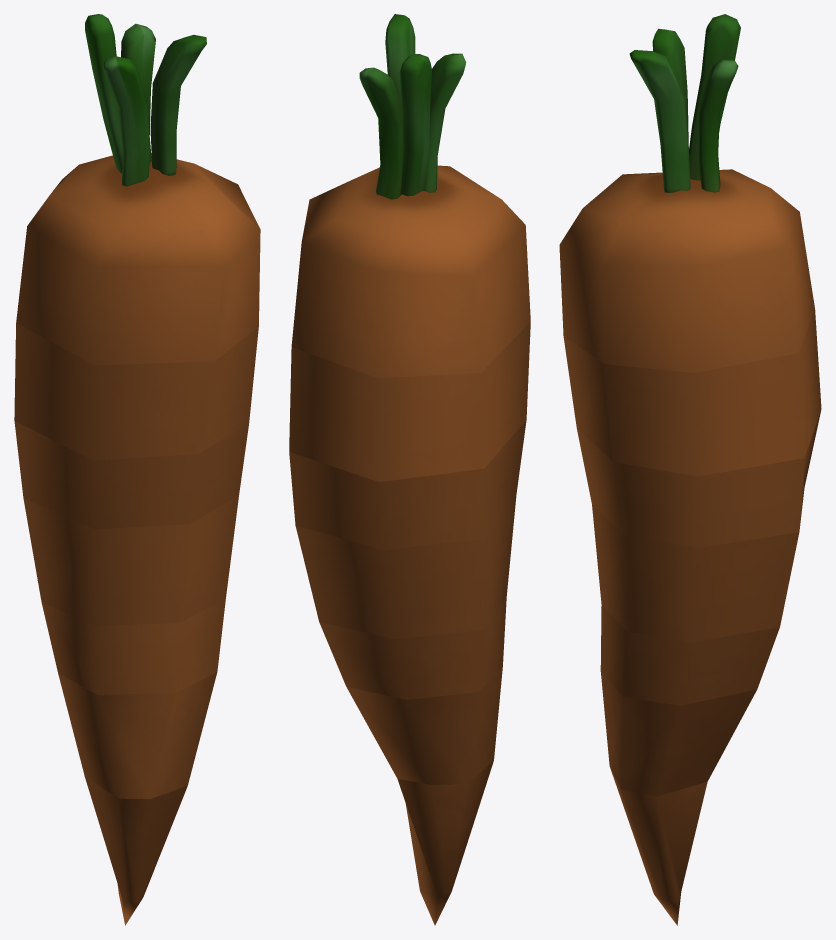
The model's file is CarrotCutSmoothed.fbx.
3 renders of one model, left to right at view 1: azimuth 30°, elevation 25°; view 2: azimuth 150°, elevation 25°; view 3: azimuth 270°, elevation 25°, orthographic. The views are drawn at different scales.
Visible parts, largest first — view 1: CarrotCut.001, CarrotCut.002, CarrotCut.004, CarrotCut.003, CarrotCut.006, CarrotCut.005, CarrotCutBottom; view 2: CarrotCut.001, CarrotCut.002, CarrotCut.004, CarrotCut.003, CarrotCut.006, CarrotCut.005, CarrotCutBottom; view 3: CarrotCut.001, CarrotCut.002, CarrotCut.004, CarrotCut.003, CarrotCut.006, CarrotCut.005, CarrotCutBottom.
Boxes of the visible parts, box(x1,y1,x2,y2) form: CarrotCut.001: box(16, 14, 260, 365); CarrotCut.002: box(14, 323, 258, 460); CarrotCut.004: box(23, 495, 238, 626); CarrotCut.003: box(14, 421, 248, 529); CarrotCut.006: box(58, 672, 217, 799); CarrotCut.005: box(41, 598, 225, 694); CarrotCutBottom: box(85, 777, 187, 925); CarrotCut.001: box(291, 14, 530, 378); CarrotCut.002: box(289, 322, 530, 481); CarrotCut.004: box(295, 495, 516, 639); CarrotCut.003: box(289, 420, 526, 550); CarrotCut.006: box(346, 667, 502, 784); CarrotCut.005: box(319, 597, 506, 699); CarrotCutBottom: box(397, 761, 493, 925); CarrotCut.001: box(559, 14, 814, 372); CarrotCut.002: box(563, 310, 821, 476); CarrotCut.004: box(592, 505, 799, 642); CarrotCut.003: box(577, 410, 821, 548); CarrotCut.006: box(600, 671, 756, 796); CarrotCut.005: box(600, 605, 779, 705); CarrotCutBottom: box(610, 768, 707, 925).
Bounding box in the file's own units: 171 × 715 × 187.
1 material, 1 textured.
